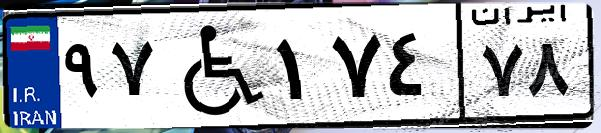1: (270, 28, 330, 110)
4: (385, 28, 445, 110)
7: (330, 28, 385, 110), (475, 38, 525, 113), (110, 28, 158, 98)
8: (525, 38, 570, 115)
9: (57, 26, 110, 100)
ژ (معلولین و جانبازان): (158, 12, 270, 120)
